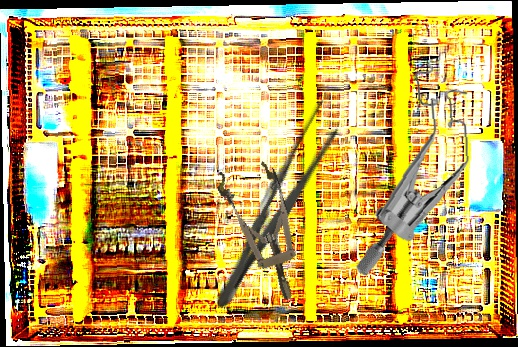Dressing Forceps: (203, 94, 351, 319)
Speculum: (344, 57, 480, 277), (212, 154, 317, 310)
